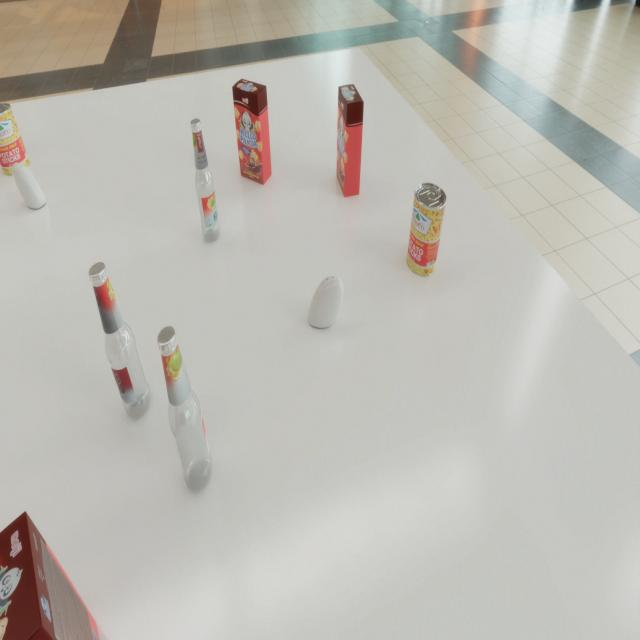Bottle: (88, 262, 152, 420), (157, 326, 213, 493), (190, 119, 220, 242)
HelloPanda: (232, 79, 272, 185), (336, 84, 364, 197)
Potato_sticks: (406, 182, 446, 277), (0, 103, 30, 176)
Salt: (308, 275, 343, 328), (12, 163, 46, 209)
